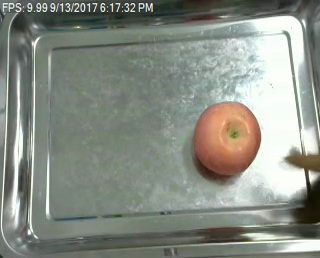Apple: (193, 101, 261, 176)
